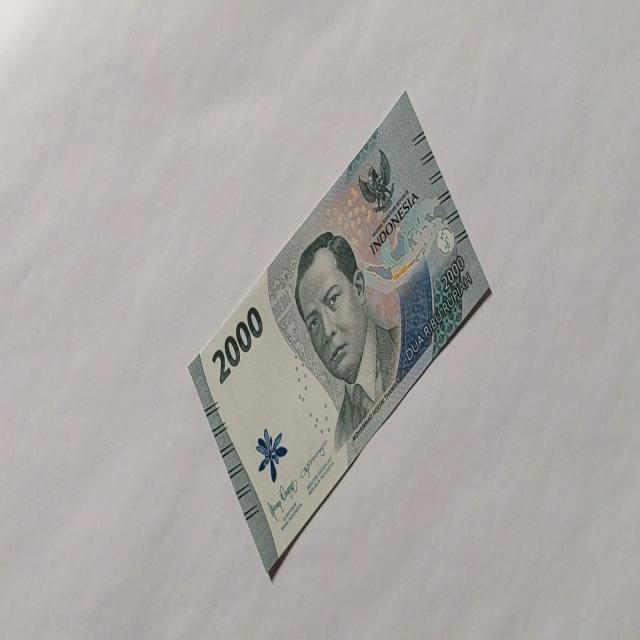dua ribu rupiah: (187, 89, 493, 579), (294, 230, 402, 453), (210, 304, 264, 385)
